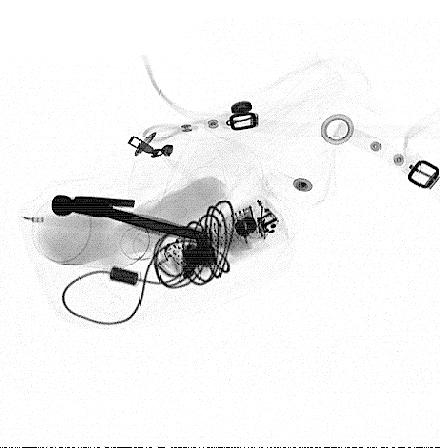Hammer: (51, 194, 215, 247)
